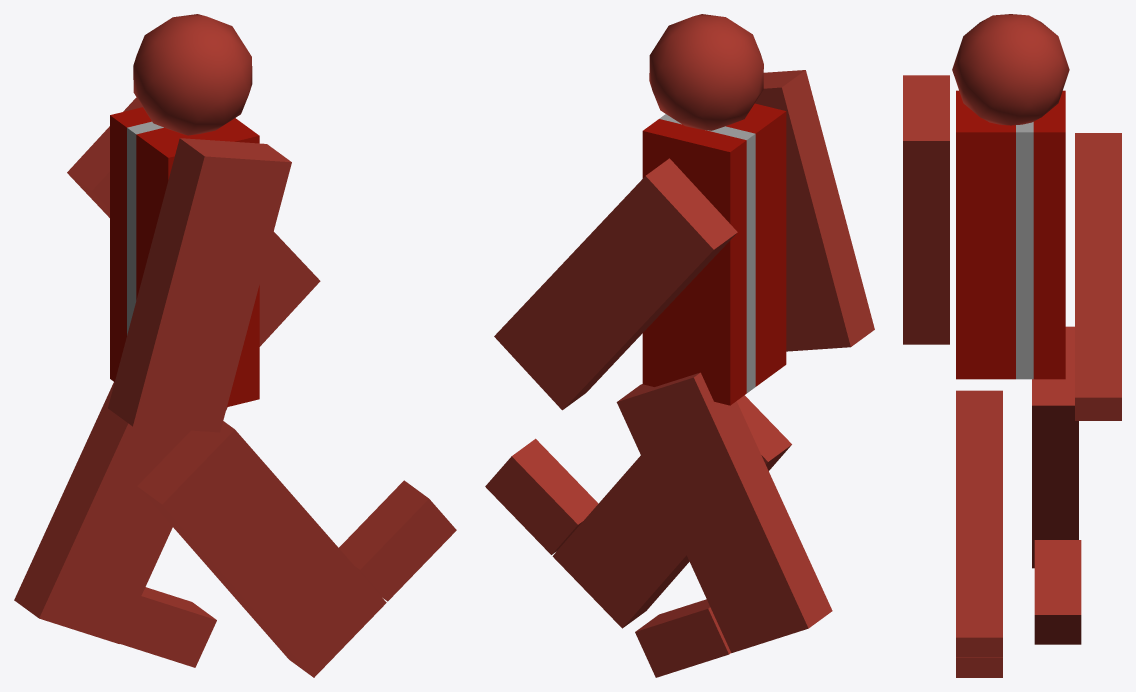
Rendered from player_000020.obj.
The picture shows the model from 3 angles, left to right: view 1: azimuth 30°, elevation 25°; view 2: azimuth 150°, elevation 25°; view 3: azimuth 270°, elevation 25°; orthographic projection. The views are drawn at different scales.
Visible parts, largest first — view 1: Cube.013, Cube.010, Cube.008, Cube.007, Icosphere.001, Cube.011, Cube.012, Cube.009; view 2: Cube.008, Cube.007, Cube.012, Cube.013, Cube.010, Icosphere.001, Cube.011, Cube.009; view 3: Cube.007, Cube.012, Cube.013, Cube.010, Icosphere.001, Cube.008, Cube.009, Cube.011.
Part boxes in pixels (bbox=[...]): Cube.013: bbox=[108, 138, 291, 432]; Cube.010: bbox=[137, 421, 386, 677]; Cube.008: bbox=[14, 382, 227, 643]; Cube.007: bbox=[110, 107, 259, 406]; Icosphere.001: bbox=[133, 14, 252, 135]; Cube.011: bbox=[339, 480, 456, 601]; Cube.012: bbox=[67, 97, 320, 346]; Cube.009: bbox=[119, 587, 216, 667]; Cube.008: bbox=[616, 372, 832, 653]; Cube.007: bbox=[642, 103, 786, 405]; Cube.012: bbox=[494, 158, 737, 410]; Cube.013: bbox=[755, 70, 874, 351]; Cube.010: bbox=[552, 395, 791, 628]; Icosphere.001: bbox=[649, 14, 763, 130]; Cube.011: bbox=[485, 438, 598, 554]; Cube.009: bbox=[635, 599, 730, 677]; Cube.007: bbox=[956, 90, 1065, 379]; Cube.012: bbox=[1075, 133, 1121, 420]; Cube.013: bbox=[903, 75, 949, 344]; Cube.010: bbox=[956, 390, 1002, 677]; Icosphere.001: bbox=[952, 14, 1069, 125]; Cube.008: bbox=[1032, 326, 1078, 568]; Cube.009: bbox=[1034, 540, 1081, 644]; Cube.011: bbox=[956, 589, 1002, 656].
Size of the model in its own units: 1.7 by 2.85 by 0.9137.
